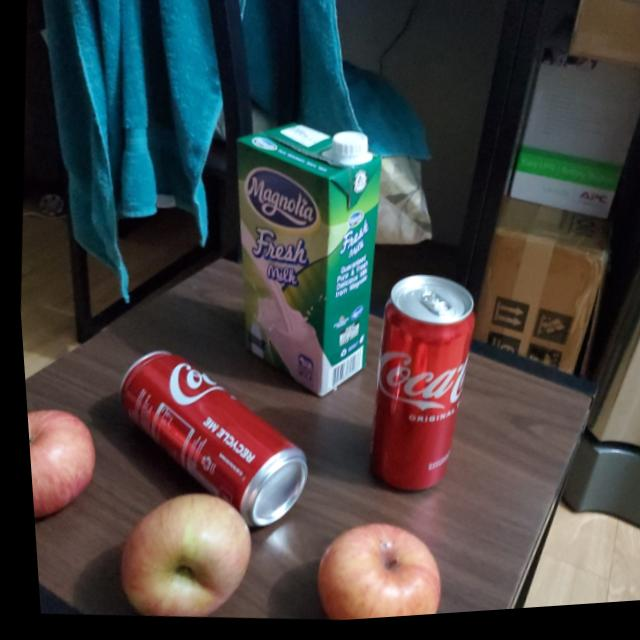apple: (108, 484, 253, 624), (303, 519, 440, 626), (21, 403, 95, 521)
coke: (98, 340, 311, 541), (353, 273, 486, 505)
milk: (207, 117, 392, 409)
